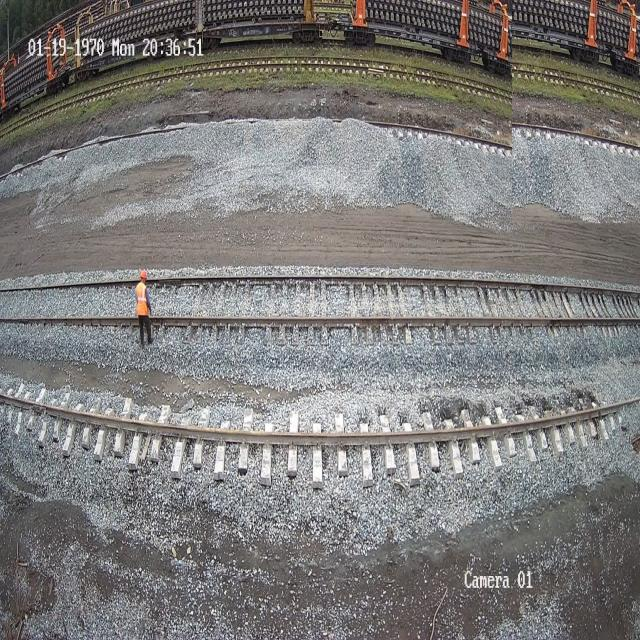Helmet: (140, 270, 146, 279)
Person: (135, 269, 154, 347)
